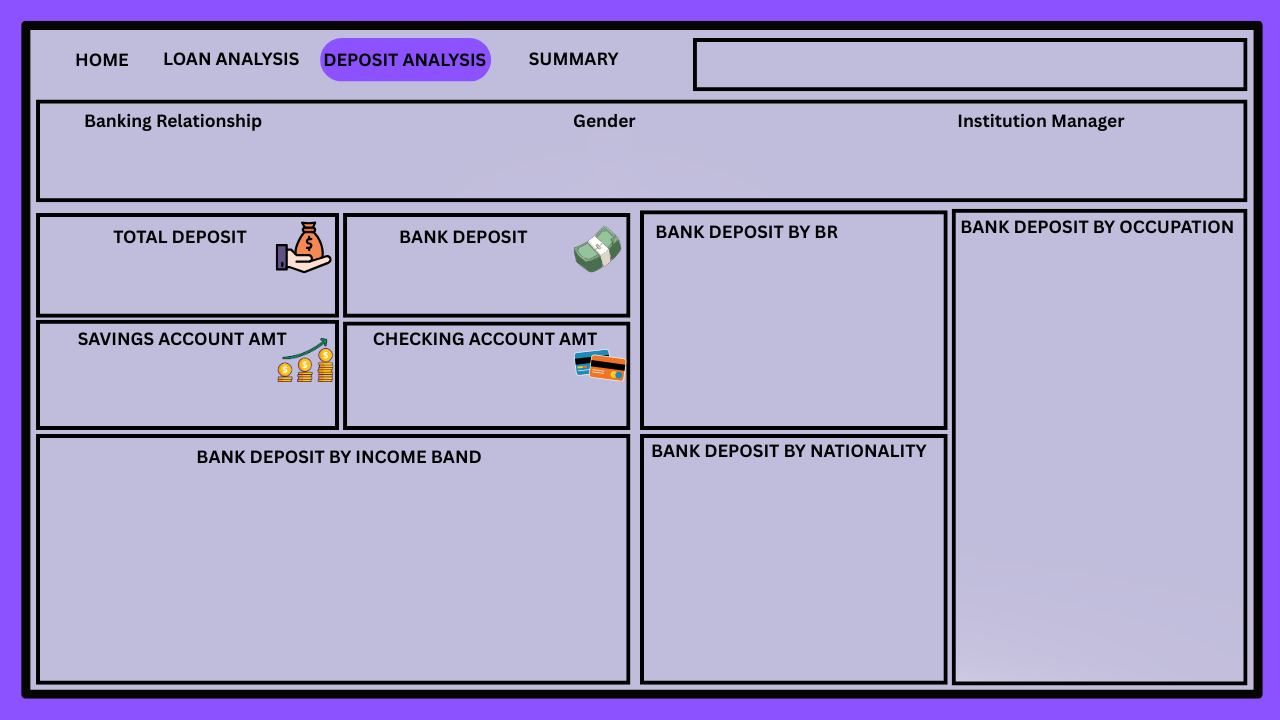

What the dashboard file says about the page in this screenshot:
{"tool":"powerbi","page":{"name":"DEPOSIT ANALYSIS","canvas":[1280,720],"ordinal":3},"visuals":[{"type":"actionButton","box":[51.6,37.9,100.2,39.9],"z":0},{"type":"actionButton","box":[151.7,37.9,154.7,39.9],"z":1000},{"type":"card","fields":{"Values":["Banking.Total Deposits"]},"box":[51.8,227.8,250.6,74.6],"z":2000},{"type":"card","fields":{"Values":["Sum(Banking.Bank Deposits)"]},"box":[342.8,227.8,250.6,74.6],"z":3000},{"type":"card","fields":{"Values":["Sum(Banking.Saving Accounts)"]},"box":[51.8,336.6,250.6,74.6],"z":4000},{"type":"card","fields":{"Values":["Sum(Banking.Checking Accounts)"]},"box":[342.8,336.6,250.6,74.6],"z":5000},{"type":"advancedSlicerVisual","fields":{"Values":["Banking.BRId"]},"box":[51.8,135.7,467.1,49.7],"z":6000},{"type":"shape","box":[528.2,105.6,12.4,87],"z":7000},{"type":"advancedSlicerVisual","fields":{"Values":["Banking.GenderId"]},"box":[554,135.7,320,49.7],"z":8000},{"type":"shape","box":[881.3,105.6,13.5,87],"z":9000},{"type":"clusteredColumnChart","fields":{"Category":["Banking.BRId"],"Y":["Sum(Banking.Bank Deposits)"]},"box":[647.2,232,284.8,203],"z":10000},{"type":"clusteredColumnChart","fields":{"Category":["Banking.Occupation"],"Y":["Sum(Banking.Bank Deposits)"]},"box":[953.8,239.2,284.8,462.9],"z":11000},{"type":"donutChart","fields":{"Category":["Banking.Income band"],"Y":["Sum(Banking.Bank Deposits)"]},"box":[175,476.4,328.3,188.5],"z":12000},{"type":"clusteredColumnChart","fields":{"Category":["Banking.Nationality"],"Y":["Sum(Banking.Bank Deposits)"]},"box":[640,469.1,284.8,203],"z":13000},{"type":"advancedSlicerVisual","fields":{"Values":["Banking.Joining year"]},"box":[698,38.3,548.9,49.7],"z":14000},{"type":"actionButton","box":[495.1,37.9,171.2,39.9],"z":15000},{"type":"slicer","fields":{"Values":["Investment Advisor.Investment Advisor"]},"box":[911.3,135.7,327.2,49.7],"z":16000}]}

Visuals, with their boxes in screenshot pixels (x1, y1, x2, y2), scaled from the page's 1280x720 canvas onto the 1280x720 screenshot:
actionButton: {"x1": 52, "y1": 38, "x2": 152, "y2": 78}
actionButton: {"x1": 152, "y1": 38, "x2": 306, "y2": 78}
card - Banking.Total Deposits: {"x1": 52, "y1": 228, "x2": 302, "y2": 302}
card - Sum(Banking.Bank Deposits): {"x1": 343, "y1": 228, "x2": 593, "y2": 302}
card - Sum(Banking.Saving Accounts): {"x1": 52, "y1": 337, "x2": 302, "y2": 411}
card - Sum(Banking.Checking Accounts): {"x1": 343, "y1": 337, "x2": 593, "y2": 411}
advancedSlicerVisual - Banking.BRId: {"x1": 52, "y1": 136, "x2": 519, "y2": 185}
shape: {"x1": 528, "y1": 106, "x2": 541, "y2": 193}
advancedSlicerVisual - Banking.GenderId: {"x1": 554, "y1": 136, "x2": 874, "y2": 185}
shape: {"x1": 881, "y1": 106, "x2": 895, "y2": 193}
clusteredColumnChart - Banking.BRId x Sum(Banking.Bank Deposits): {"x1": 647, "y1": 232, "x2": 932, "y2": 435}
clusteredColumnChart - Banking.Occupation x Sum(Banking.Bank Deposits): {"x1": 954, "y1": 239, "x2": 1239, "y2": 702}
donutChart - Banking.Income band x Sum(Banking.Bank Deposits): {"x1": 175, "y1": 476, "x2": 503, "y2": 665}
clusteredColumnChart - Banking.Nationality x Sum(Banking.Bank Deposits): {"x1": 640, "y1": 469, "x2": 925, "y2": 672}
advancedSlicerVisual - Banking.Joining year: {"x1": 698, "y1": 38, "x2": 1247, "y2": 88}
actionButton: {"x1": 495, "y1": 38, "x2": 666, "y2": 78}
slicer - Investment Advisor.Investment Advisor: {"x1": 911, "y1": 136, "x2": 1238, "y2": 185}
